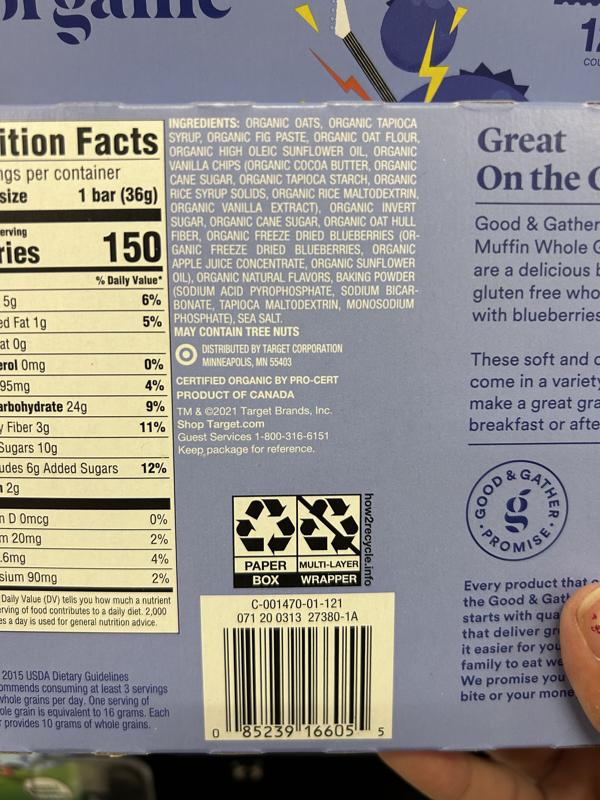ingredients: (165, 114, 422, 327)
